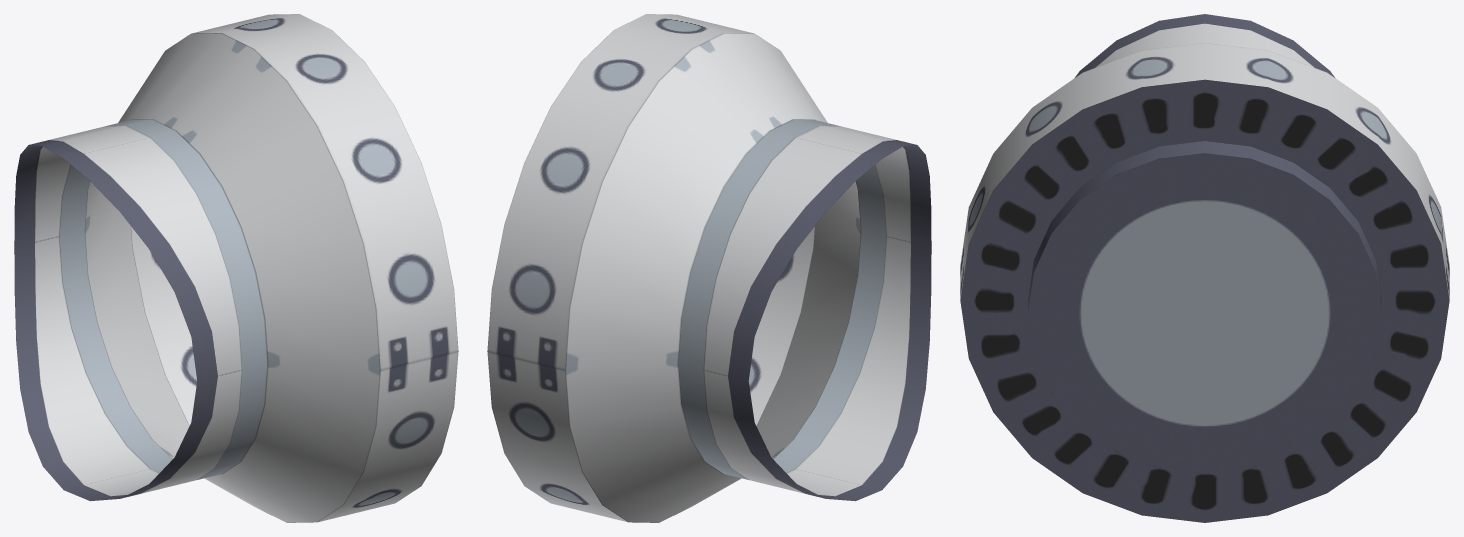
Rendered from Reactor_Support_01.FBX.
The picture shows the model from 3 angles, left to right: view 1: azimuth 30°, elevation 25°; view 2: azimuth 150°, elevation 25°; view 3: azimuth 270°, elevation 25°; orthographic projection. The views are drawn at different scales.
Visible parts, largest first — view 1: Reactor_Support_01; view 2: Reactor_Support_01; view 3: Reactor_Support_01.
Boxes of the visible parts, <box> form: Reactor_Support_01: <box>14,14,458,522</box>; Reactor_Support_01: <box>487,14,931,522</box>; Reactor_Support_01: <box>960,14,1449,522</box>.
Size of the model in its own units: 2.83 by 4.21 by 4.21.
